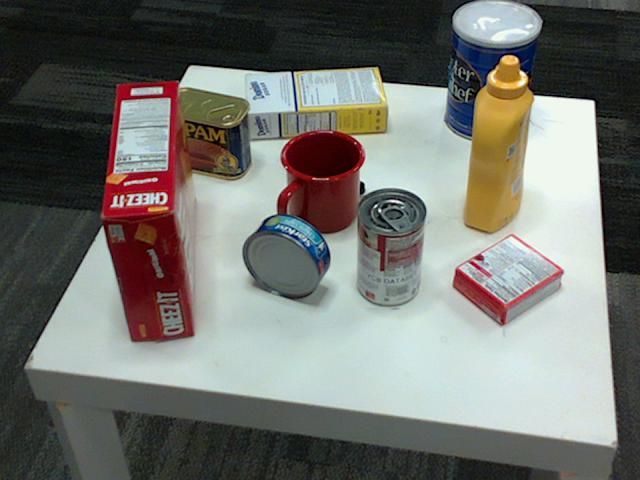cracker_box: (100, 79, 197, 339)
gelatin_box: (452, 234, 564, 325)
large_marker: (283, 144, 363, 195)
master_chef_can: (443, 0, 539, 141)
mug: (280, 127, 366, 230)
mustard_bottle: (462, 56, 534, 231)
potted_meat_can: (158, 88, 252, 178)
sugar_box: (245, 67, 388, 136)
tomato_soup_can: (357, 188, 427, 306)
tuna_fish_can: (243, 214, 331, 298)
